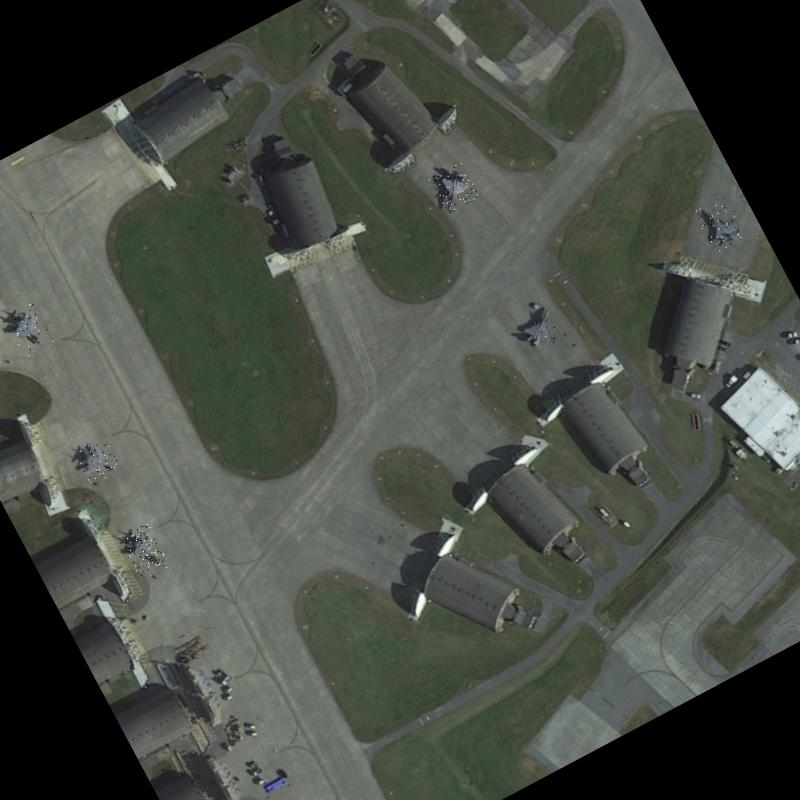A13: (692, 192, 748, 253), (118, 520, 171, 580), (512, 299, 568, 354), (428, 161, 480, 214), (4, 302, 54, 357), (72, 434, 121, 485)
